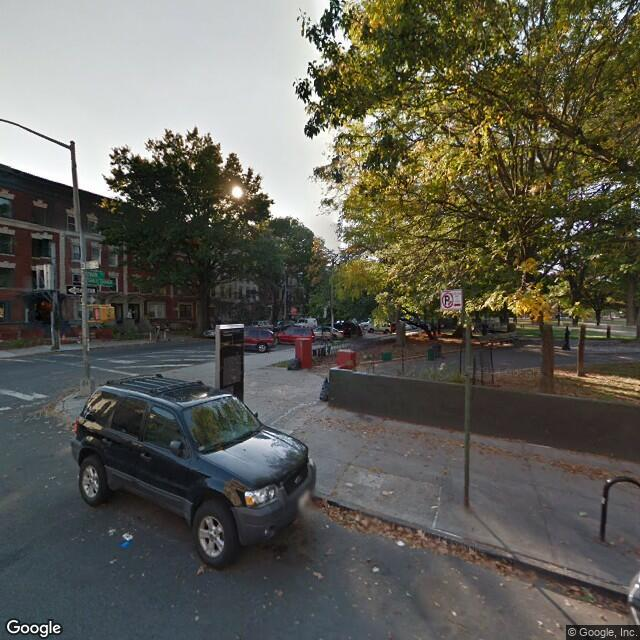litter: (327, 500, 517, 581), (315, 374, 337, 411), (112, 532, 142, 556)
